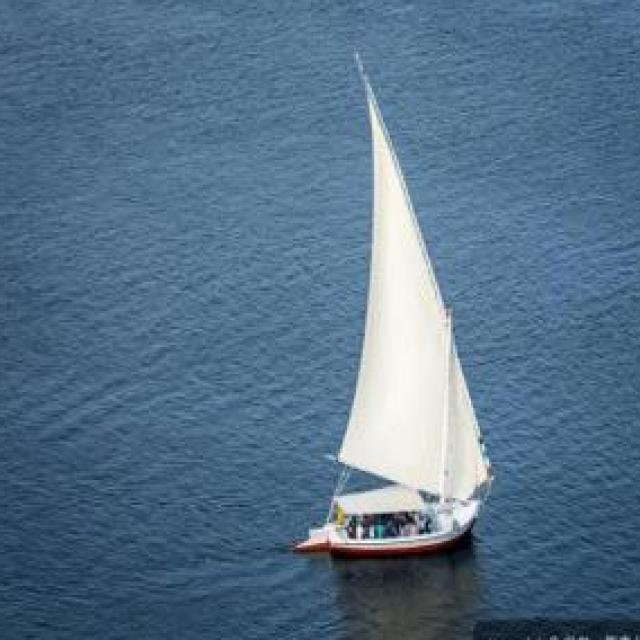sailboat: (282, 44, 498, 558)
